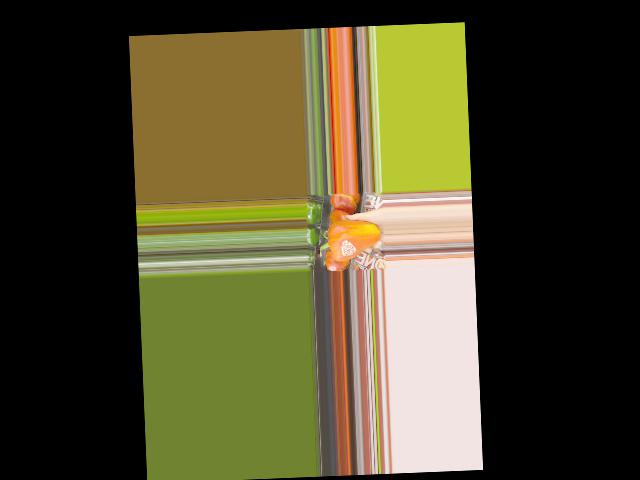bell_pepper: (317, 214, 380, 263)
